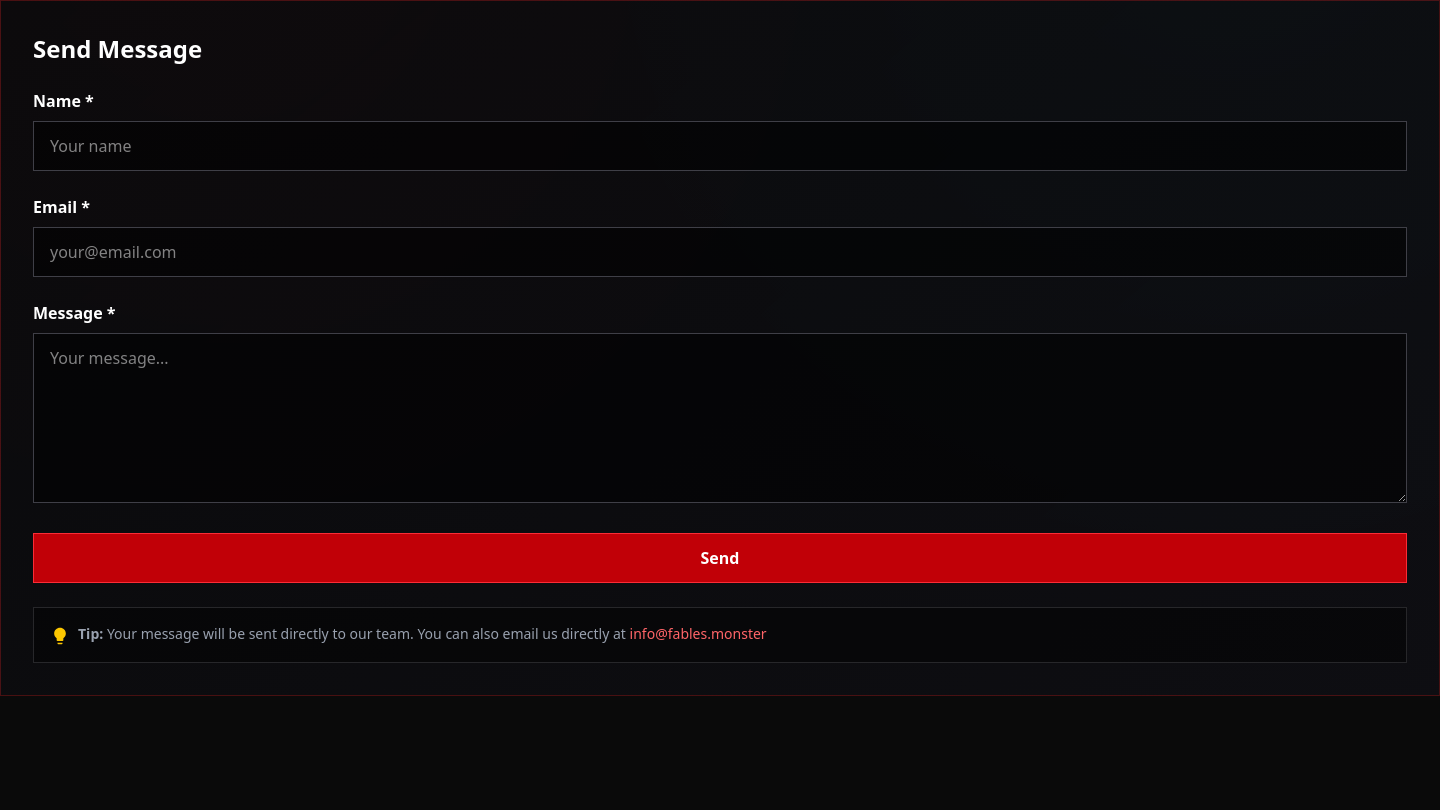
Test case: ContactForm › shows error on API failure
The width and height of the screenshot is (1440, 810).
Type "Test" into the field with placeholder "Your name".
click(720, 146); type("Test")  # box [33,121,1407,171]
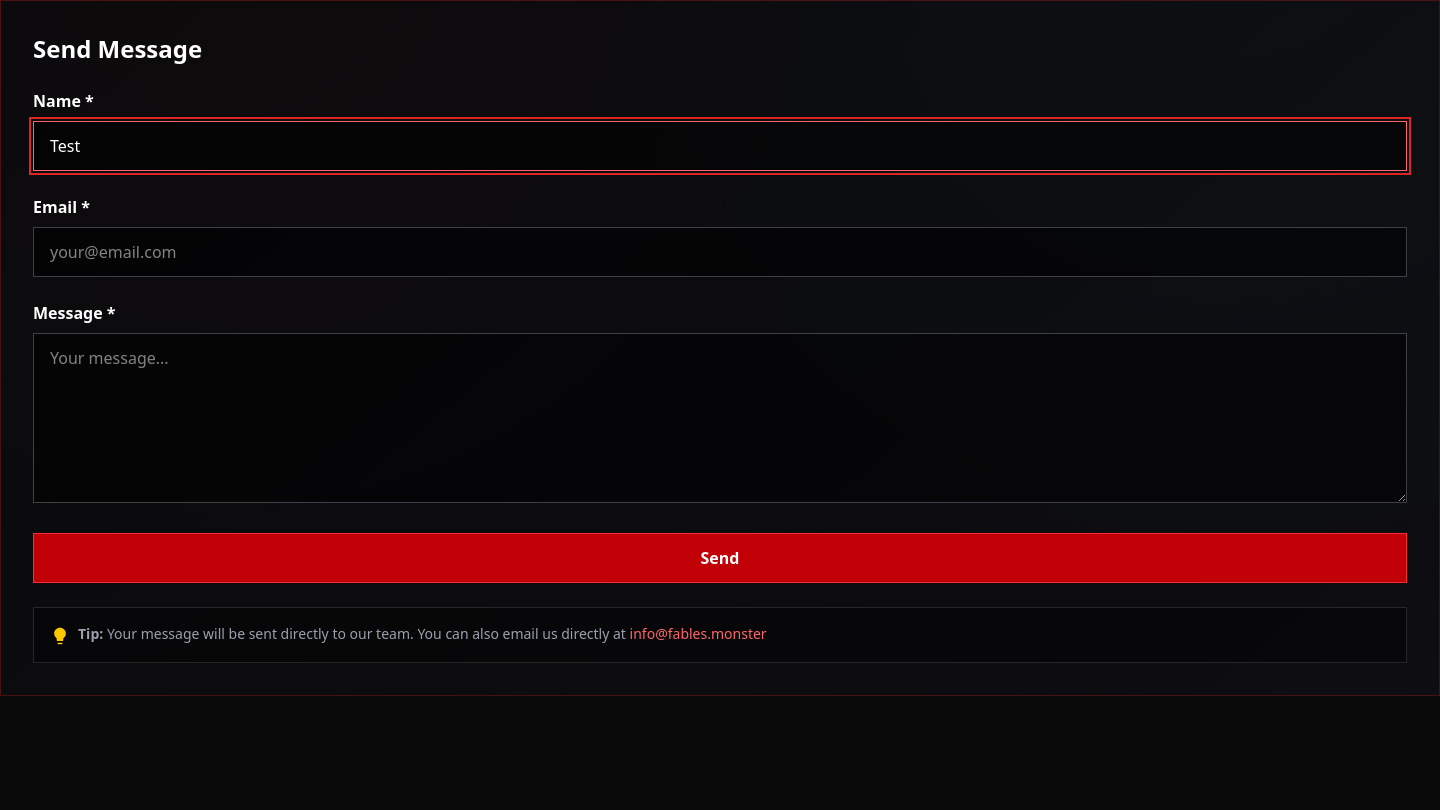
Type "test@test.com" into the field with placeholder "your@email.com".
click(720, 252); type("test@test.com")  # box [33,227,1407,277]
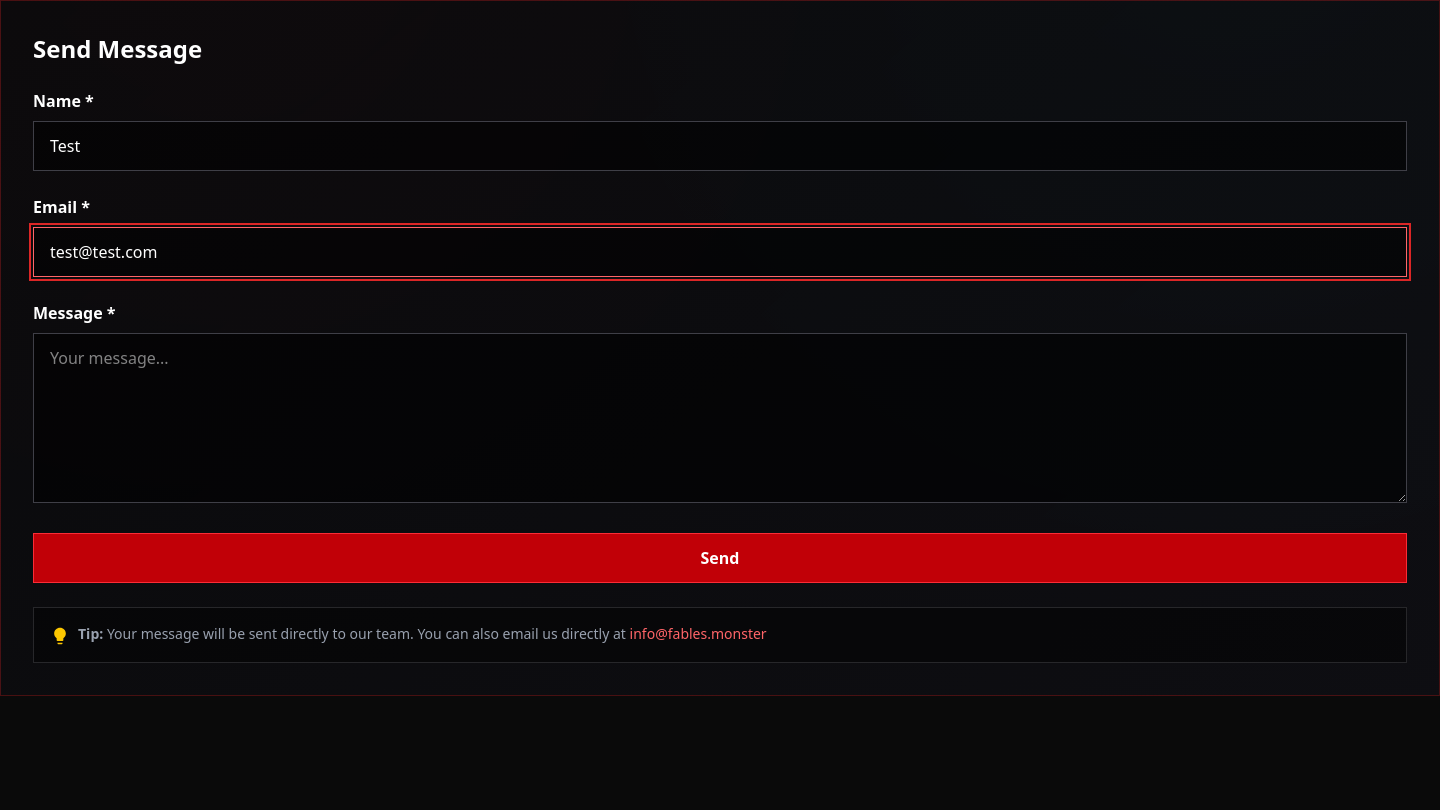
Type "Hello" into the text box with placeholder "Your message...".
click(720, 418); type("Hello")  # box [33,333,1407,503]
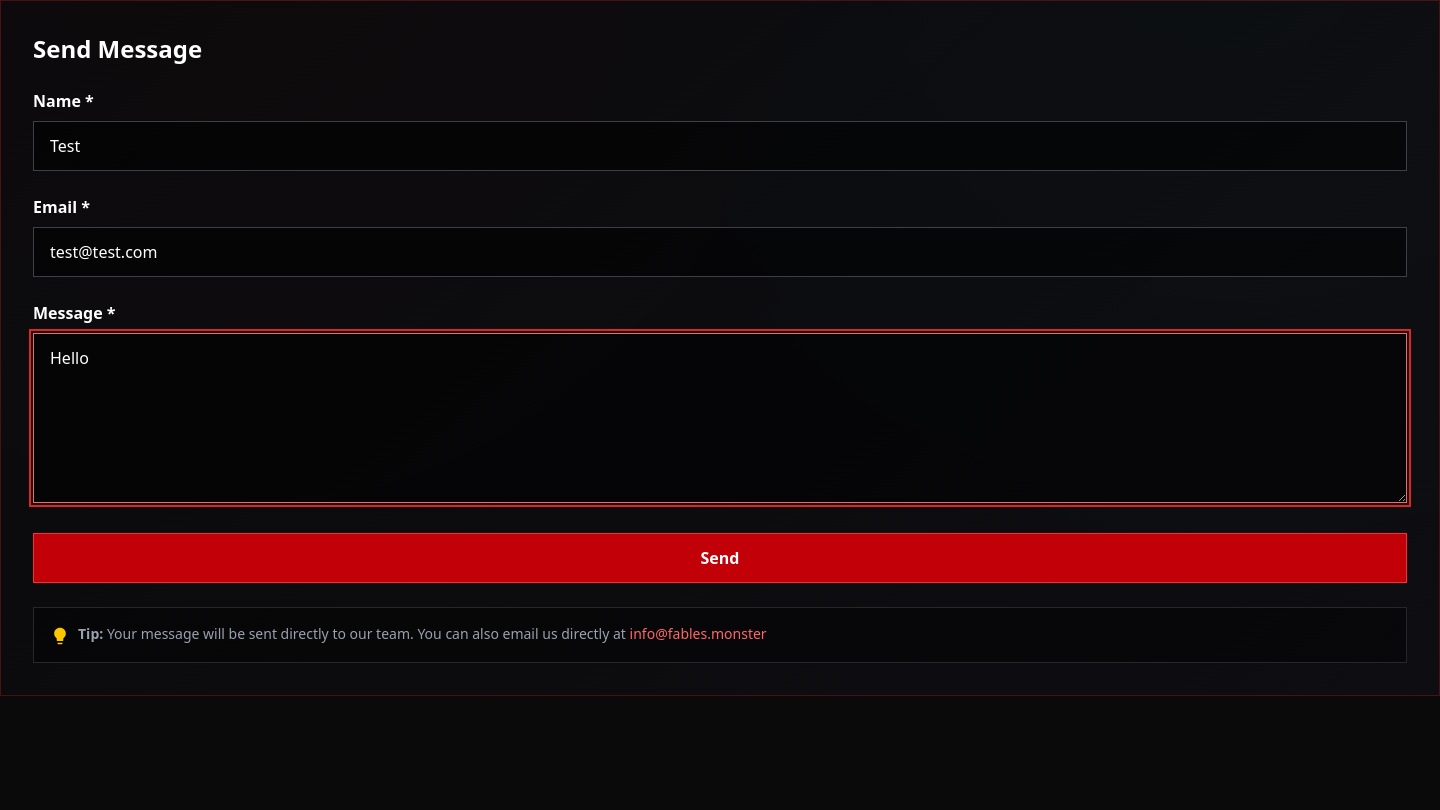
Click the button "Send".
click(720, 558)  # box [33,533,1407,583]
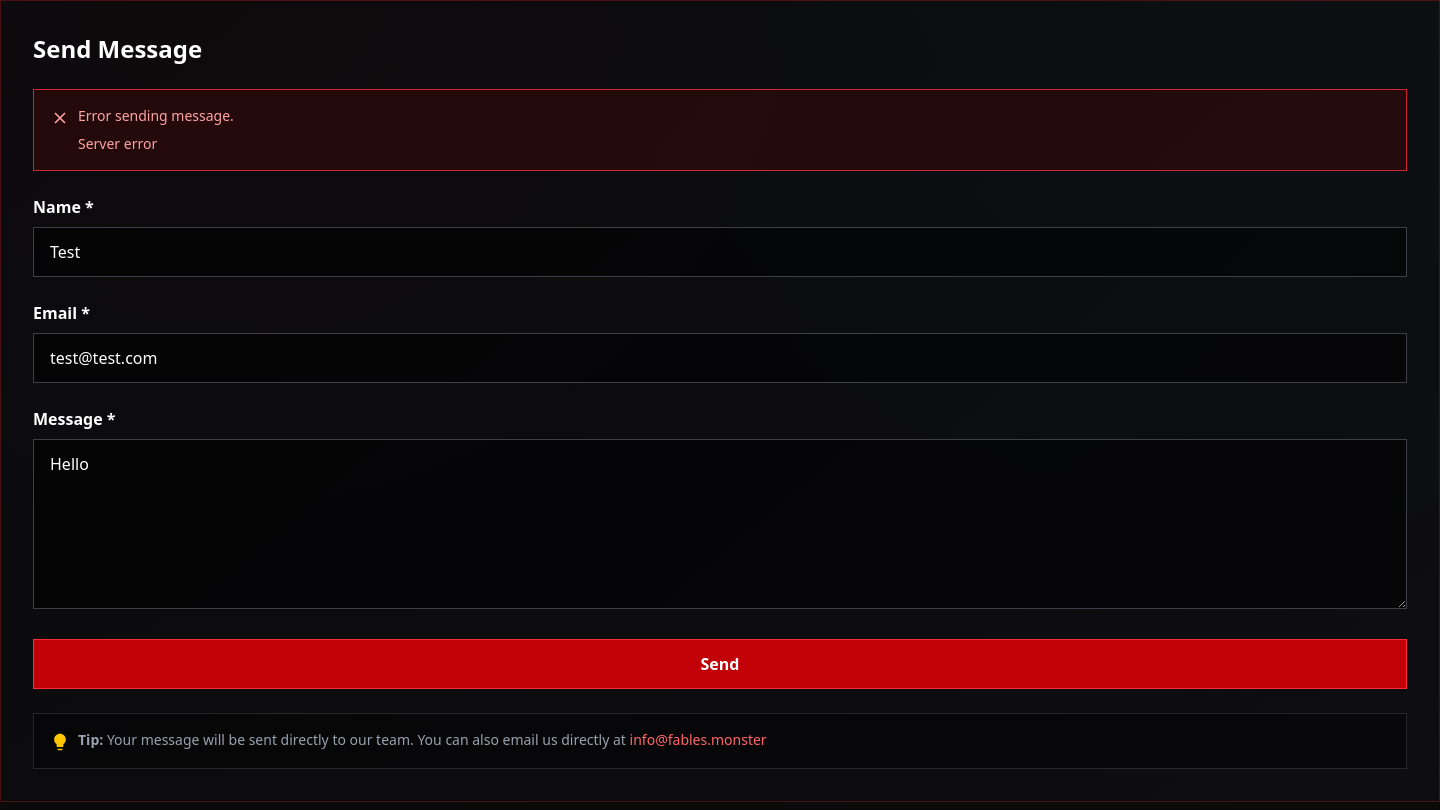
Result: the text "Error sending message." is shown at [78,106,234,125]
